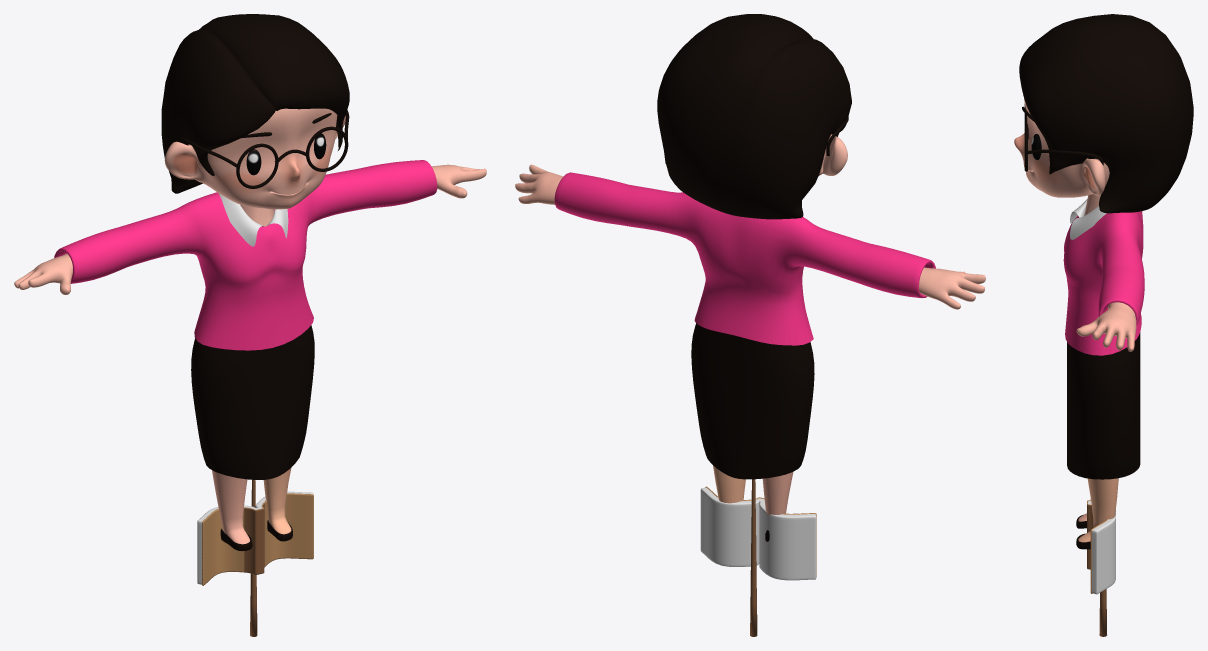
Rendered from Teacher_Export.fbx.
3 views of the same model, side by side, from view 1: azimuth 30°, elevation 25°; view 2: azimuth 150°, elevation 25°; view 3: azimuth 270°, elevation 25° (orthographic).
Parts seen in each view (by area): view 1: body, head, book; view 2: body, head, book, baton; view 3: head, body, book, baton.
Part boxes in pixels (x1=…): body: x1=14, y1=160, x2=486, y2=551; head: x1=161, y1=14, x2=349, y2=226; book: x1=197, y1=491, x2=313, y2=585; body: x1=515, y1=164, x2=985, y2=541; head: x1=657, y1=14, x2=851, y2=219; book: x1=700, y1=486, x2=816, y2=580; baton: x1=750, y1=479, x2=757, y2=636; head: x1=1014, y1=14, x2=1193, y2=215; body: x1=1063, y1=199, x2=1144, y2=549; book: x1=1087, y1=499, x2=1115, y2=594; baton: x1=1099, y1=589, x2=1106, y2=636.
Size of the model in its own units: 180 by 226 by 60.17.
8 materials, 1 textured.
